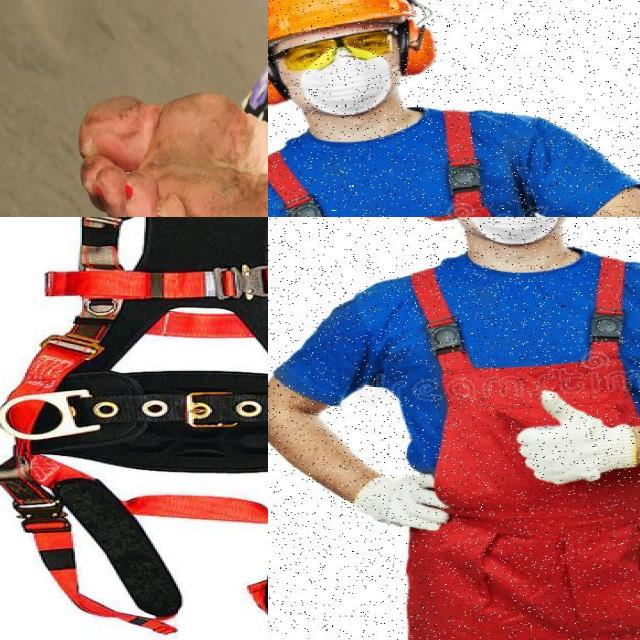Barefoots: (77, 35, 268, 217)
Ear-protection: (392, 15, 443, 80)
Harness: (0, 217, 268, 635)
glasses: (268, 30, 411, 66)
head_helmet: (268, 0, 419, 45)
person: (268, 217, 640, 640), (268, 0, 640, 217)
